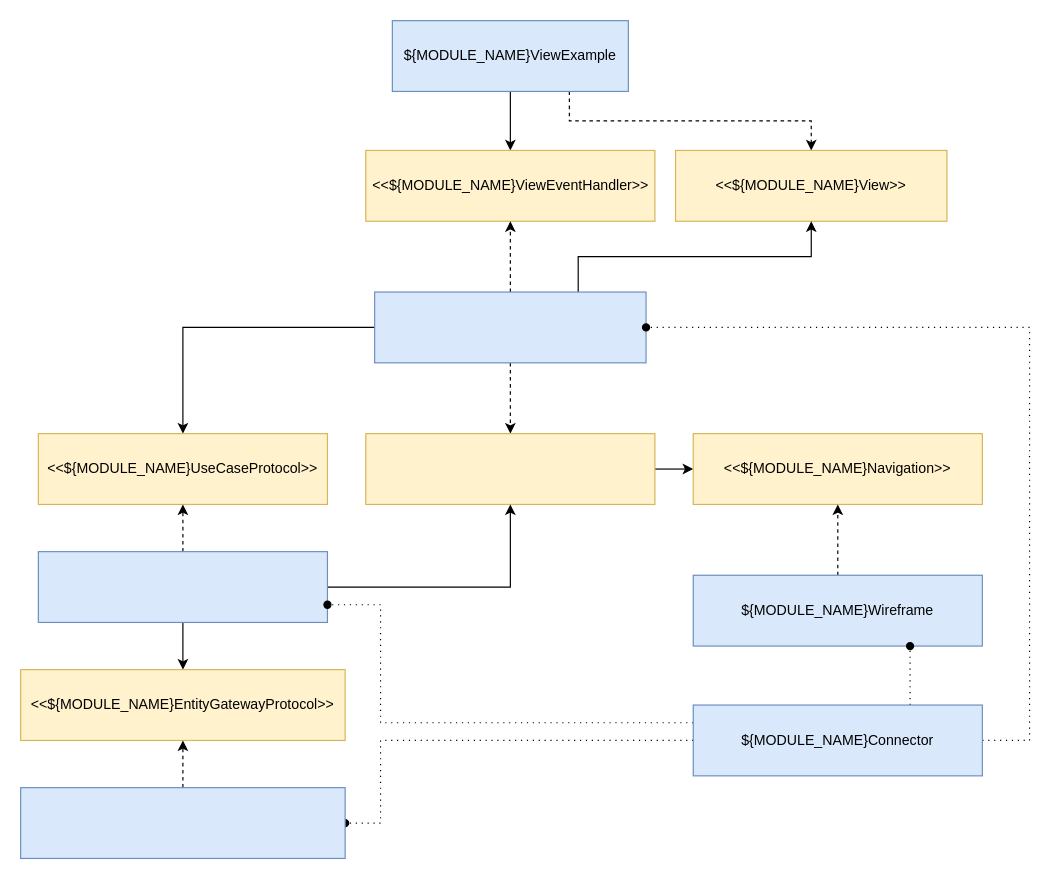
The diagram is 1060 pixels wide and 879 high, and some of its shapes have lost their labels. The centre of each missing label's shape, as x and y in pixels:
"${MODULE_NAME}EntityGateway" goes at point (182, 822).
"${MODULE_NAME}UseCase" goes at point (182, 586).
"<<${MODULE_NAME}Presentable>>" goes at point (510, 468).
"MODULE_NAME_Presenter" goes at point (509, 327).
